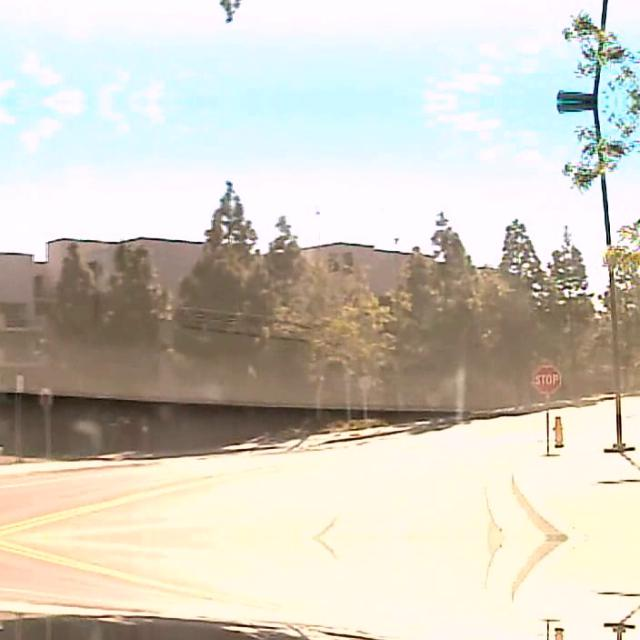stop: (532, 363, 560, 393)
